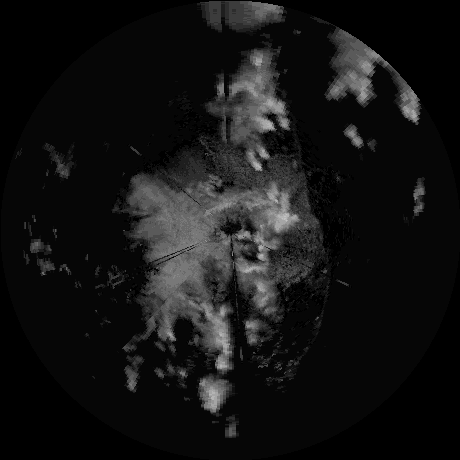frontgust: (288, 250, 332, 365)
